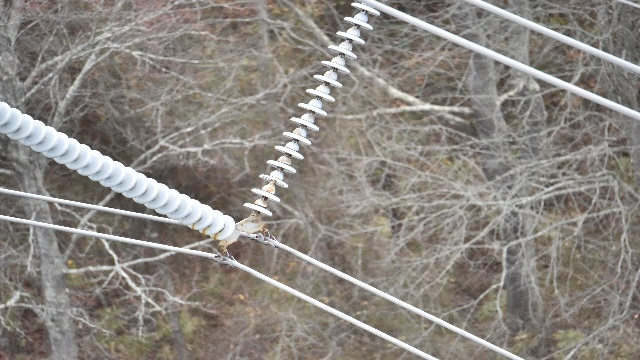broken_local: (258, 172, 286, 187)
insulator_unspecified: (0, 100, 241, 245), (243, 3, 380, 218)
